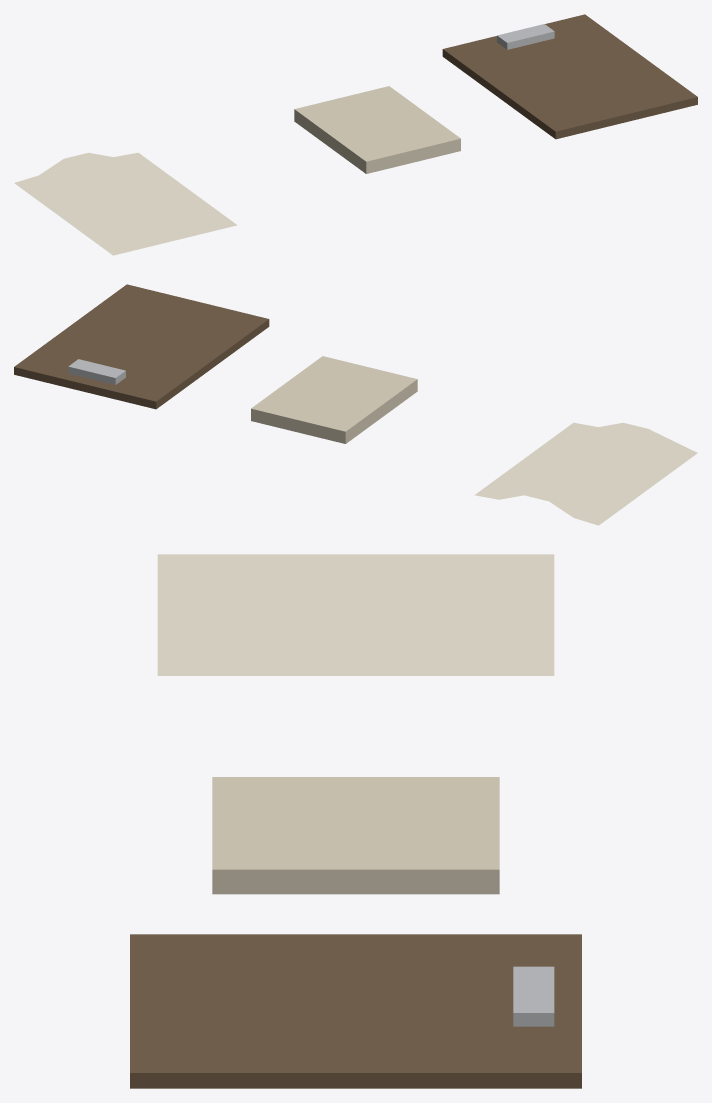
File: LL_Note_Props.fbx
3 renders of one model, top to bottom at view 1: azimuth 30°, elevation 25°; view 2: azimuth 150°, elevation 25°; view 3: azimuth 270°, elevation 25°, orthographic. The views are drawn at different scales.
Parts seen in each view (by area): view 1: LL_Note_Board, LL_Note_Paper, LL_Note_Folded, LL_Note_Clip; view 2: LL_Note_Board, LL_Note_Paper, LL_Note_Folded, LL_Note_Clip; view 3: LL_Note_Board, LL_Note_Paper, LL_Note_Folded, LL_Note_Clip.
Part boxes in pixels (left/top/right/bottom): LL_Note_Board: left=442, top=14, right=697, bottom=139; LL_Note_Paper: left=14, top=152, right=237, bottom=255; LL_Note_Folded: left=294, top=86, right=460, bottom=173; LL_Note_Clip: left=497, top=24, right=554, bottom=49; LL_Note_Board: left=14, top=284, right=269, bottom=409; LL_Note_Paper: left=474, top=422, right=697, bottom=525; LL_Note_Folded: left=251, top=356, right=417, bottom=443; LL_Note_Clip: left=68, top=359, right=125, bottom=384; LL_Note_Board: left=130, top=934, right=581, bottom=1088; LL_Note_Paper: left=157, top=554, right=554, bottom=675; LL_Note_Folded: left=212, top=777, right=499, bottom=894; LL_Note_Clip: left=513, top=966, right=554, bottom=1026.
Bounding box in the file's own units: 1.95 × 0.0957 × 0.66.
